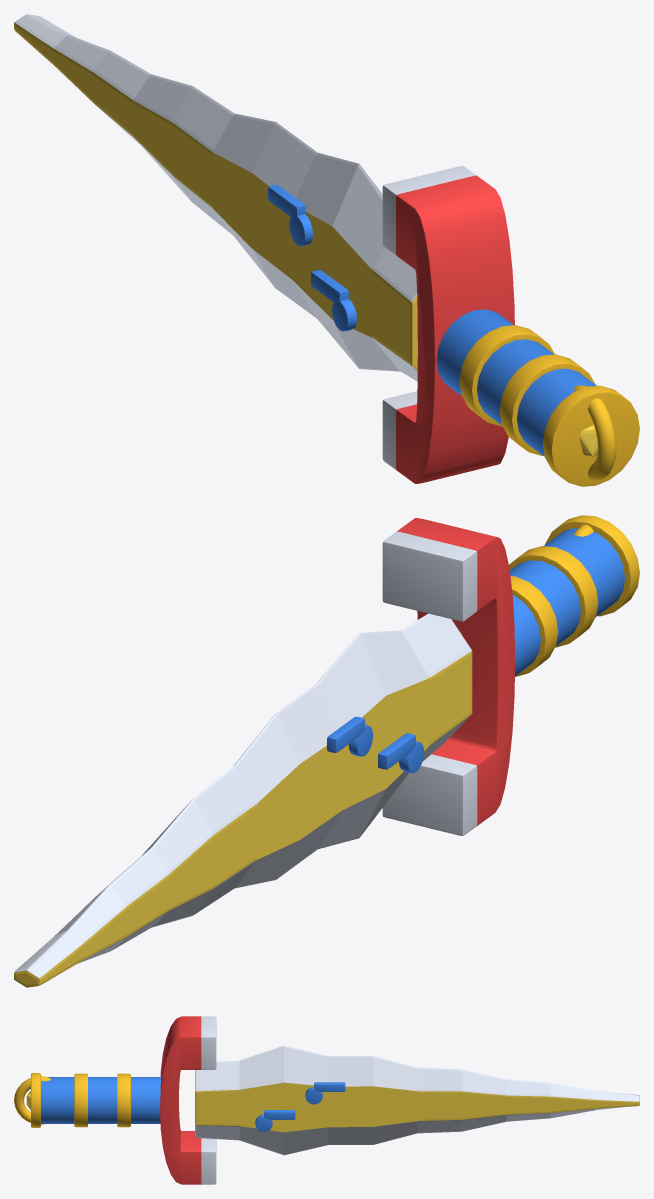
The model's file is Sword_LodestoneEdge.glb.
3 renders of one model, top to bottom at view 1: azimuth 30°, elevation 25°; view 2: azimuth 150°, elevation 25°; view 3: azimuth 270°, elevation 25°, orthographic. The views are drawn at different scales.
Parts seen in each view (by area): view 1: Sword_LodestoneEdge; view 2: Sword_LodestoneEdge; view 3: Sword_LodestoneEdge.
Boxes of the visible parts, box(x1,y1,x2,y2) form: Sword_LodestoneEdge: box(14, 14, 639, 486); Sword_LodestoneEdge: box(14, 515, 639, 987); Sword_LodestoneEdge: box(14, 1016, 639, 1184).
Size of the model in its own units: 0.0881 by 0.2603 by 1.
Materials: 1 (1 with a texture image).
